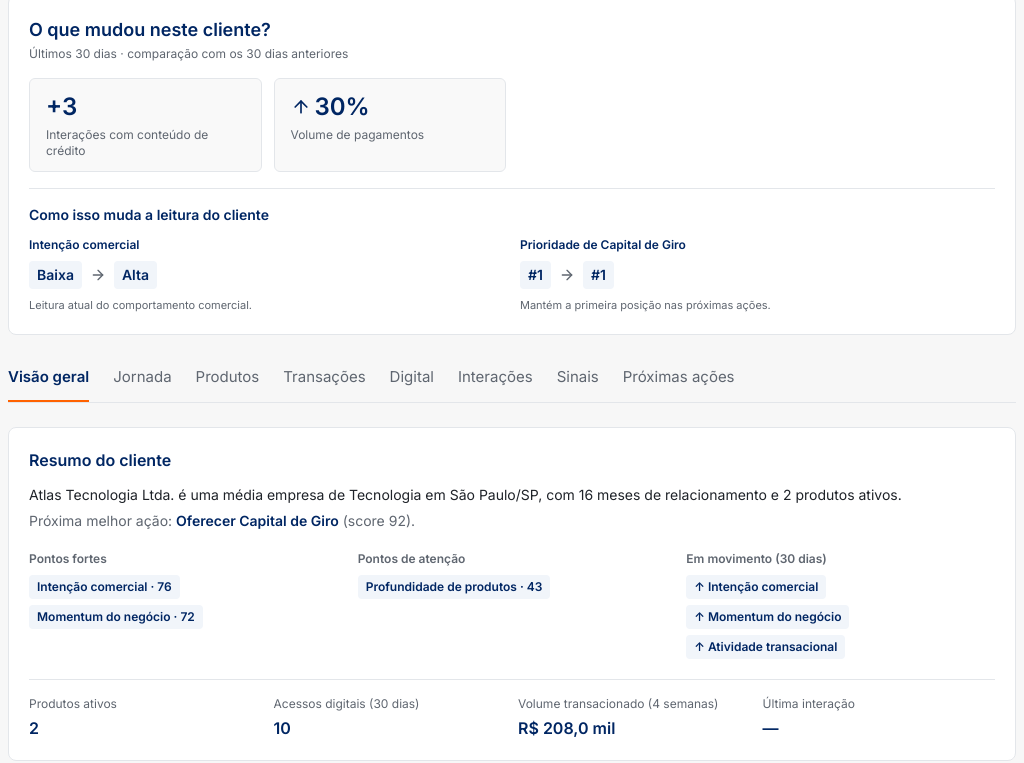
CustomerDetailPage › switches tabs: signals with filters and the ranking comparison
This screenshot has width=1024, height=763.
(page scrolled)
Click the tab "Sinais" at (578, 384), box x1=557 y1=366 x2=599 y2=402
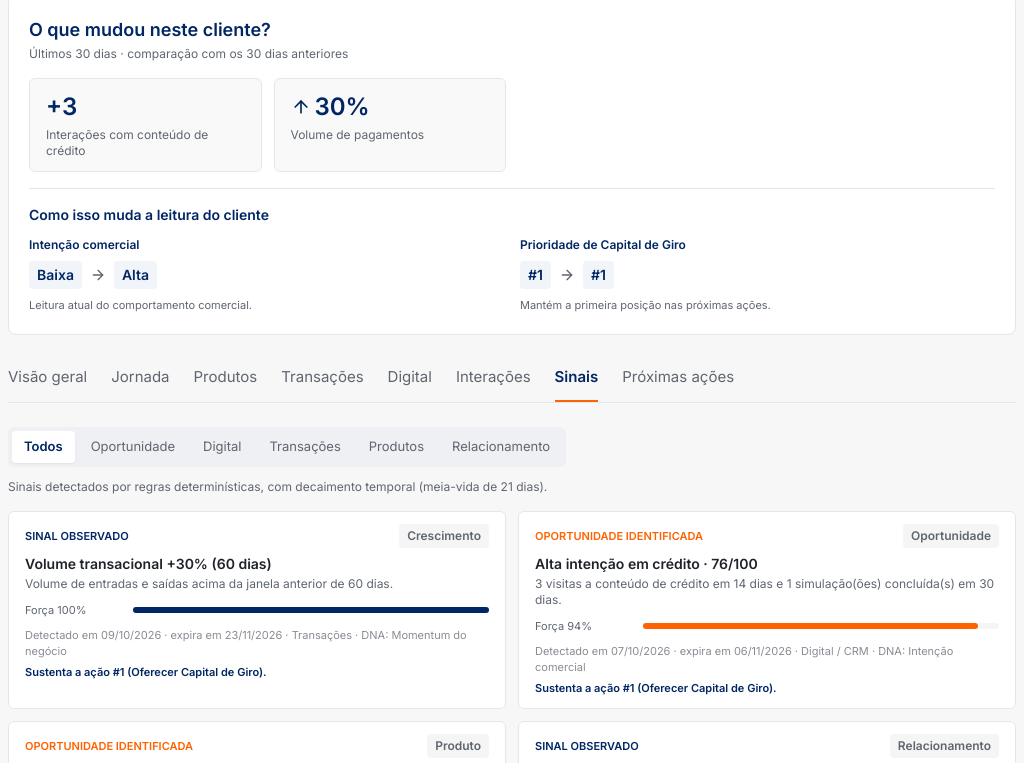
expect the text "meia-vida de 21 dias" is shown: met, box x1=8 y1=479 x2=547 y2=494
Click the 2nd tab "Produtos" at (396, 447), box x1=357 y1=431 x2=436 y2=463
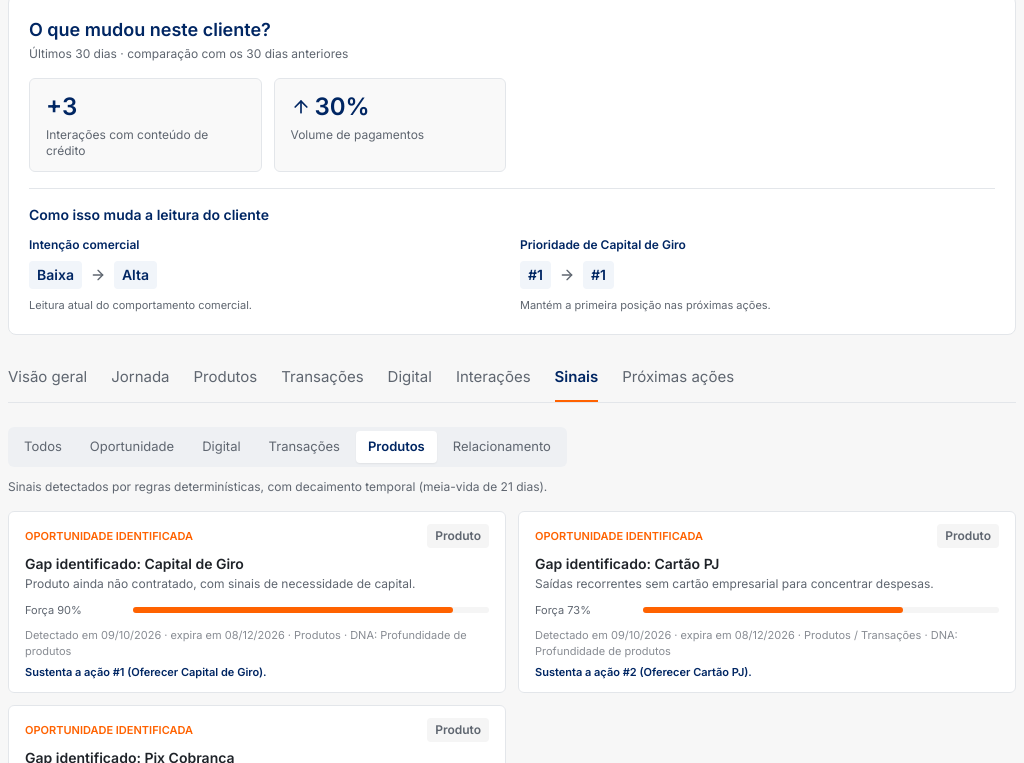
expect the text "Gap identificado: Capital de Giro" is shown: met, box x1=25 y1=555 x2=244 y2=572
Click the 1st tab "Produtos" at (225, 384), box x1=194 y1=366 x2=257 y2=402
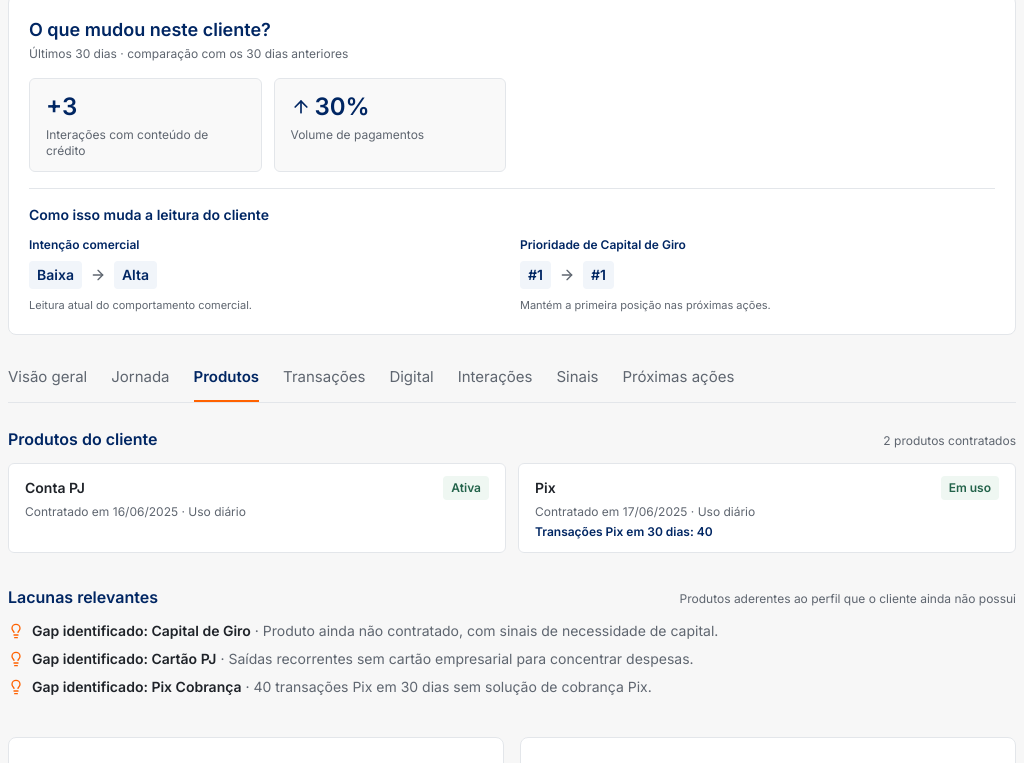
expect the heading "Lacunas relevantes" is shown: met, box x1=8 y1=585 x2=158 y2=609
Click the tab "Próximas ações" at (678, 384), box x1=622 y1=366 x2=734 y2=402
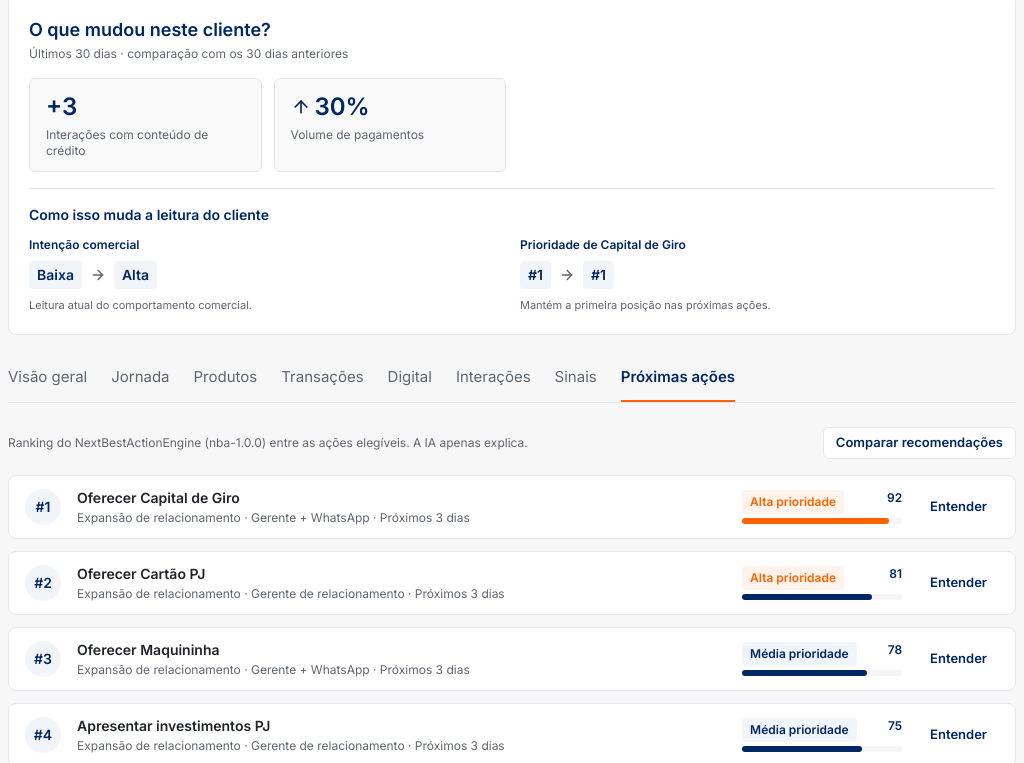
Click the button "Comparar recomendações" at (919, 443), box x1=823 y1=427 x2=1016 y2=459
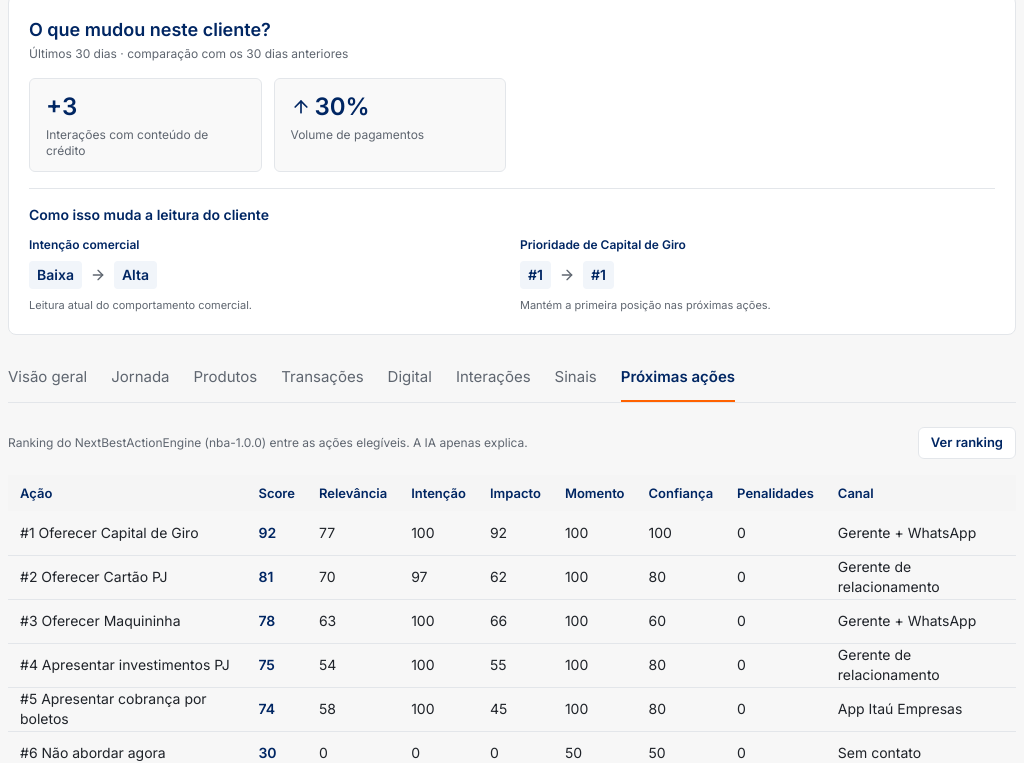
expect the column heading "Relevância" is shown: met, box x1=307 y1=475 x2=399 y2=511
